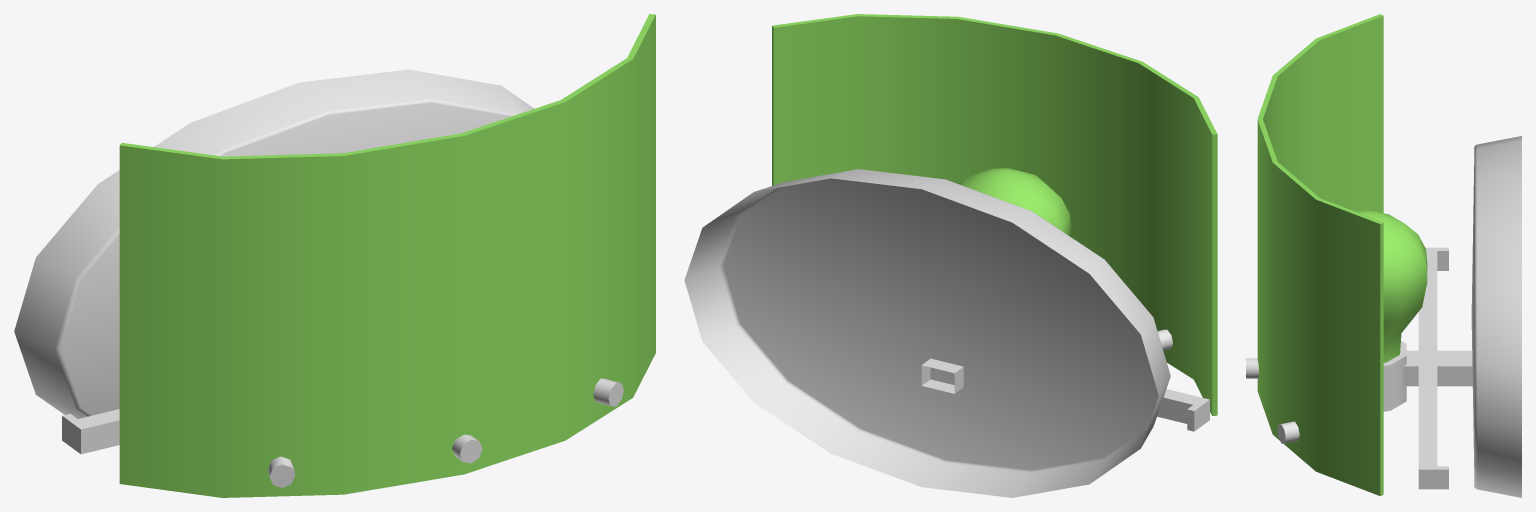
Rendered from InteriorLight03.fbx.
3 renders of one model, left to right at view 1: azimuth 30°, elevation 25°; view 2: azimuth 150°, elevation 25°; view 3: azimuth 270°, elevation 25°, orthographic. The views are drawn at different scales.
Visible parts, largest first — view 1: Circle_002; view 2: Circle_002; view 3: Circle_002.
Part boxes in pixels (bbox=[...]): Circle_002: bbox=[14, 14, 655, 497]; Circle_002: bbox=[684, 14, 1217, 497]; Circle_002: bbox=[1246, 14, 1521, 497].
Size of the model in its own units: 50 by 35.61 by 26.02.
